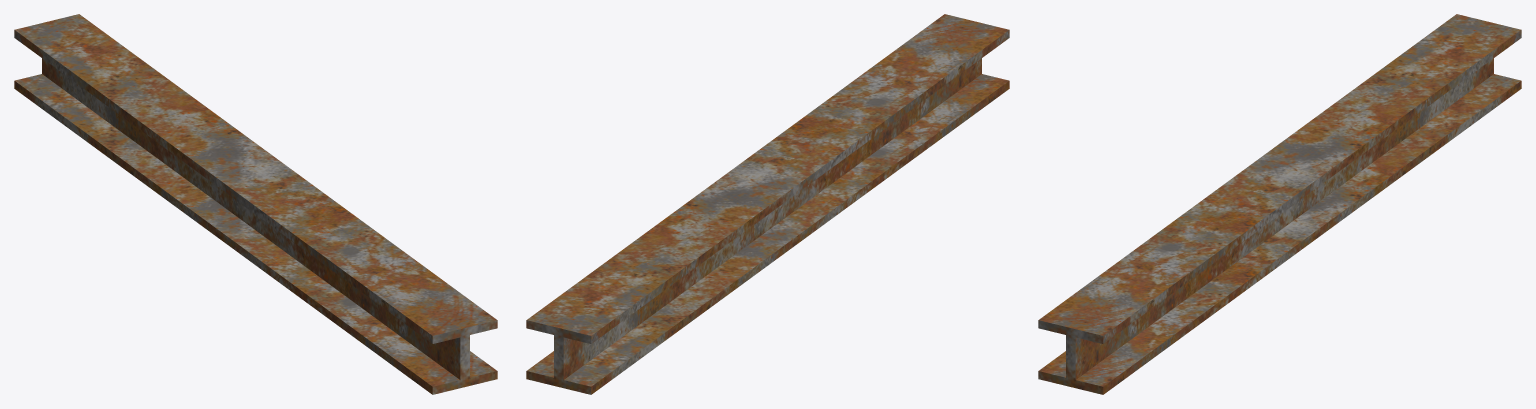
The model's file is Steel Beam.fbx.
The picture shows the model from 3 angles, left to right: view 1: azimuth 30°, elevation 25°; view 2: azimuth 150°, elevation 25°; view 3: azimuth 330°, elevation 25°; orthographic projection.
Visible parts, largest first — view 1: Cube.001; view 2: Cube.001; view 3: Cube.001.
Boxes of the visible parts, x1,y1,x2,y2 form: Cube.001: [14, 14, 497, 394]; Cube.001: [526, 14, 1009, 394]; Cube.001: [1038, 14, 1521, 394].
Bounding box in the file's own units: 83.7 × 72.87 × 936.
